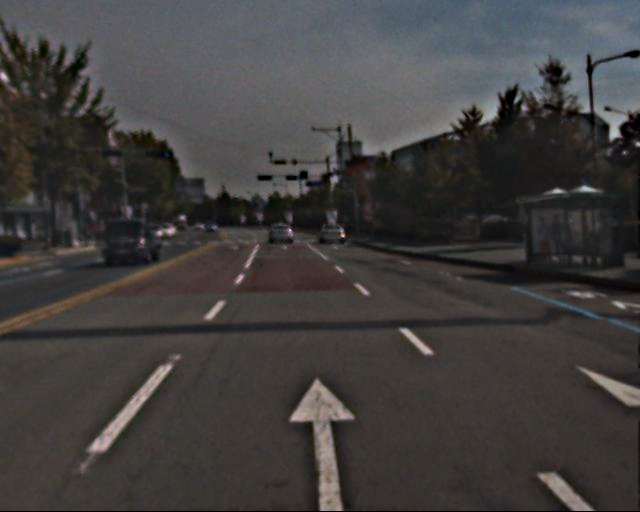person: (535, 214, 599, 270)
